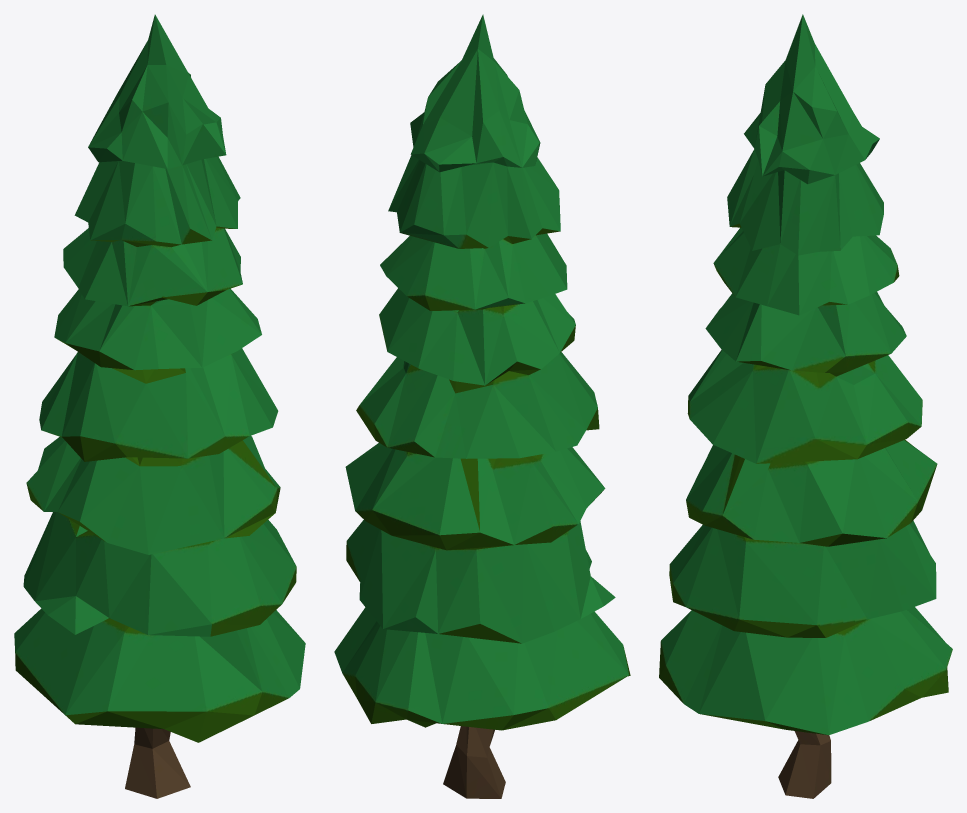
File: tree1.glb
3 views of the same model, side by side, from view 1: azimuth 30°, elevation 25°; view 2: azimuth 150°, elevation 25°; view 3: azimuth 270°, elevation 25° (orthographic).
Visible parts, largest first — view 1: geometry_0; view 2: geometry_0; view 3: geometry_0.
Part boxes in pixels (x1,y1,x2,y2): geometry_0: (14,14,305,798); geometry_0: (334,14,630,798); geometry_0: (659,14,952,798).
Size of the model in its own units: 0.8523 by 2.49 by 0.863.
Materials: 1 (1 with a texture image).
